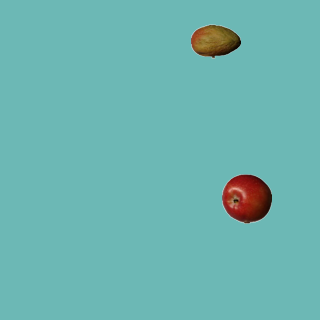Apple Braeburn: (221, 173, 271, 223)
Papaya: (190, 16, 240, 66)
